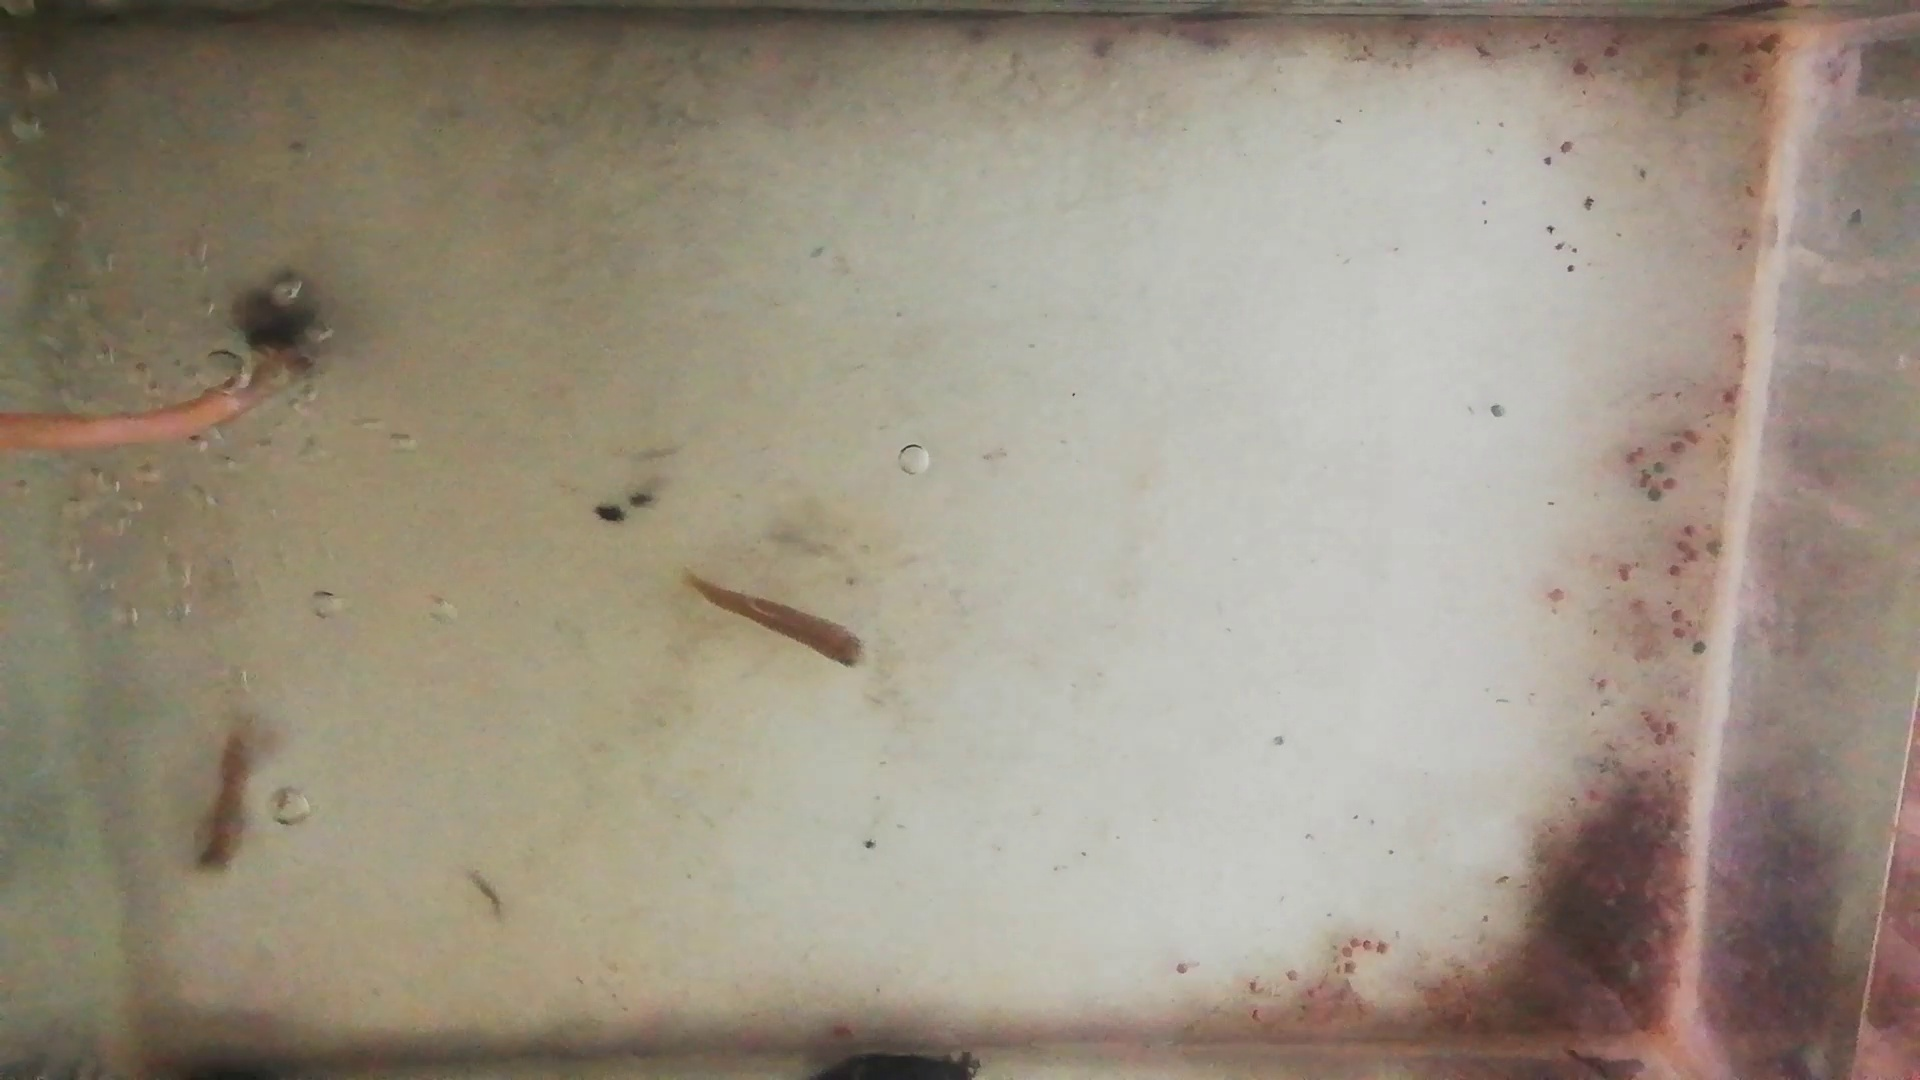fish: (683, 574, 869, 671), (190, 724, 262, 877)
